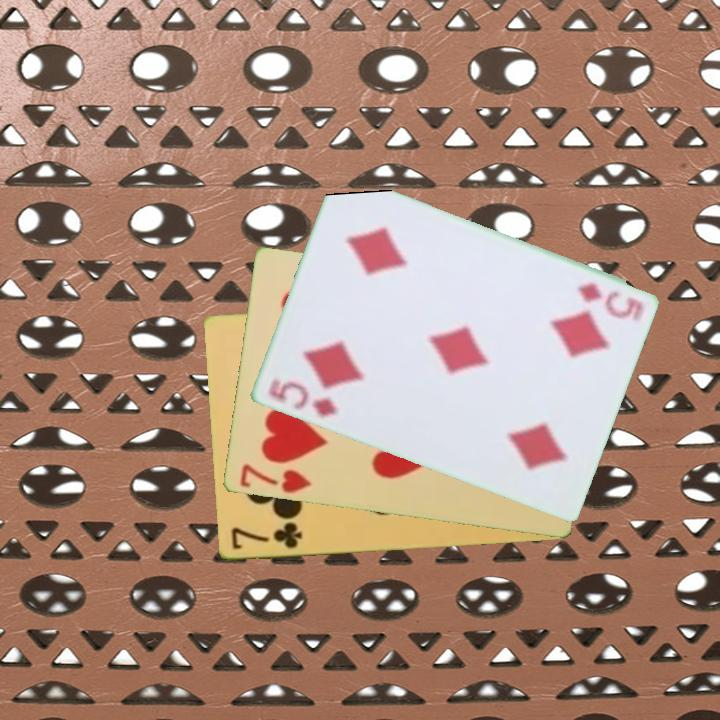5d: (264, 375, 339, 421), (574, 279, 646, 325)
7c: (227, 520, 305, 553)
7h: (235, 461, 314, 497)
